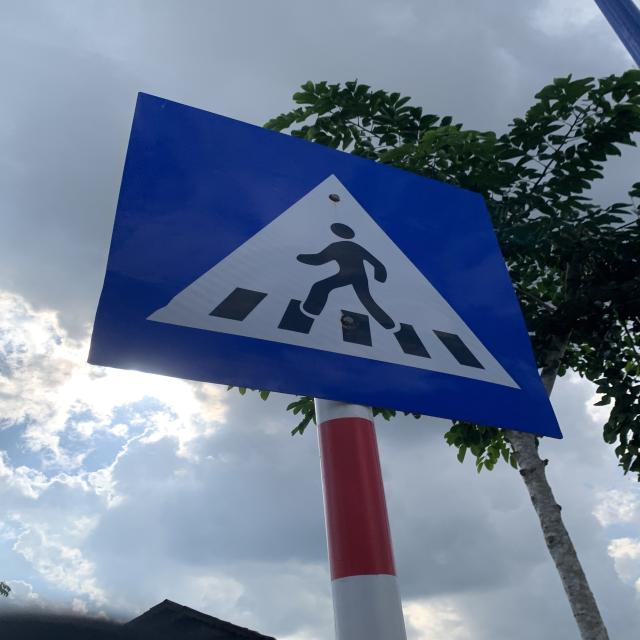Giao_Nhau_Duong_Uu_Tien: (82, 91, 562, 437)
